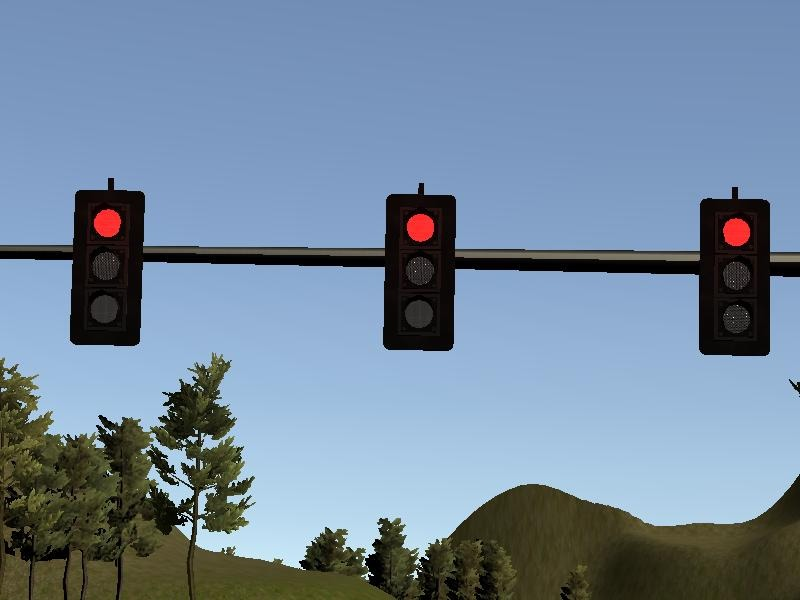red: (72, 190, 143, 344), (699, 200, 770, 354), (384, 194, 455, 348)
